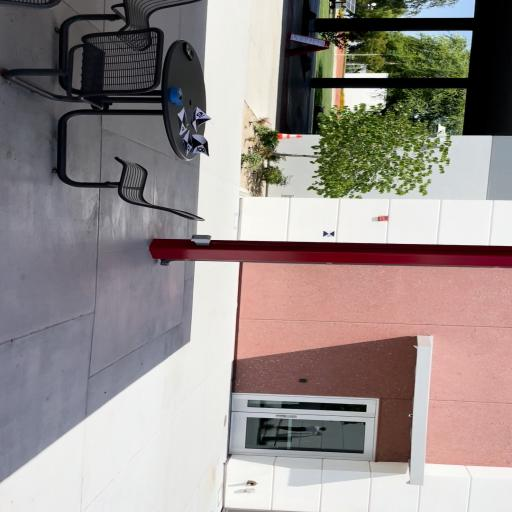target6: (323, 230, 335, 238)
